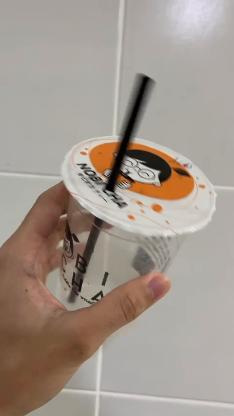Others: (61, 134, 218, 312)
